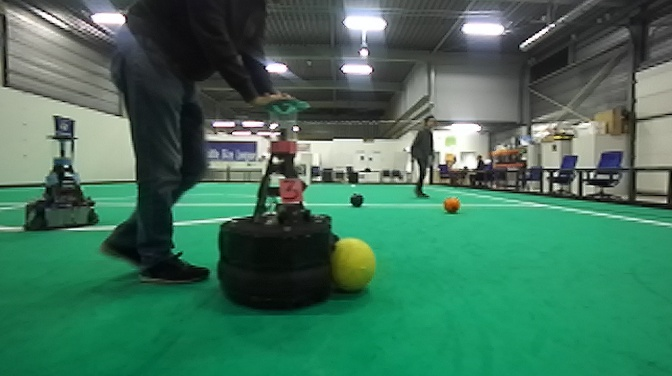ball: (328, 236, 378, 298), (440, 195, 461, 215), (348, 191, 366, 211)
goalpost: (306, 155, 312, 186)
human: (92, 1, 298, 290), (409, 113, 441, 204)
robot: (213, 94, 343, 315), (22, 111, 102, 236)
